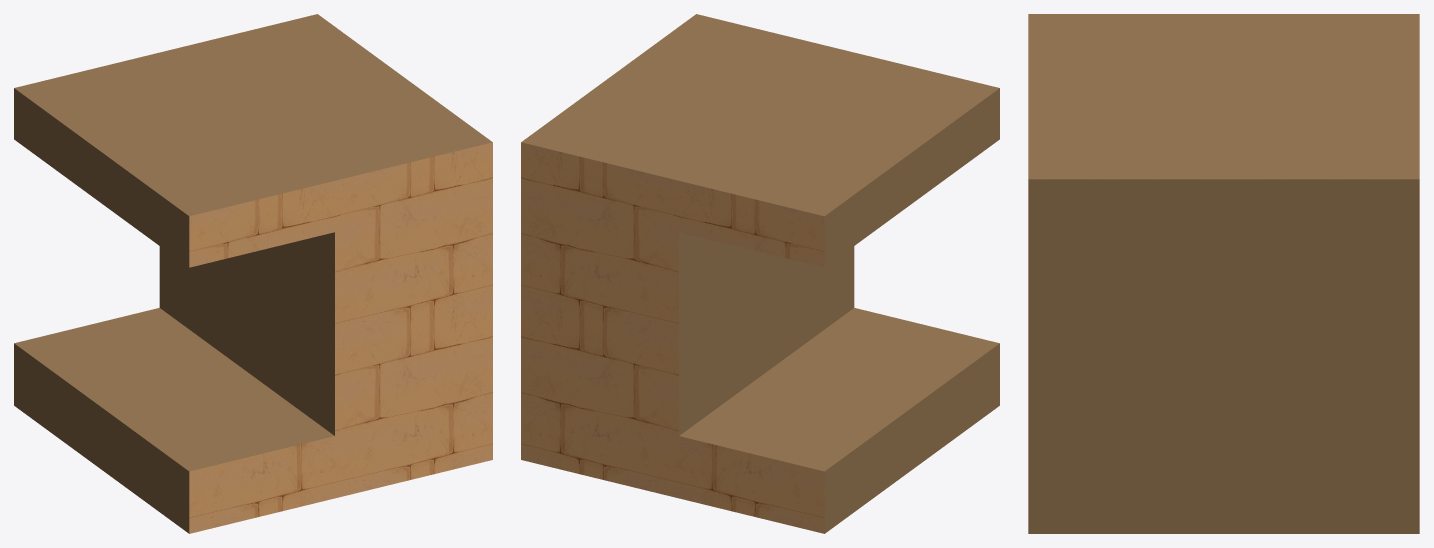
The model's file is Crumbled_Wall_1x1V2.fbx.
3 renders of one model, left to right at view 1: azimuth 30°, elevation 25°; view 2: azimuth 150°, elevation 25°; view 3: azimuth 270°, elevation 25°, orthographic. The views are drawn at different scales.
Parts seen in each view (by area): view 1: Crumbled_Wall_1x1V2; view 2: Crumbled_Wall_1x1V2; view 3: Crumbled_Wall_1x1V2.
Boxes of the visible parts, x1=… form: Crumbled_Wall_1x1V2: x1=14, y1=14, x2=492, y2=533; Crumbled_Wall_1x1V2: x1=521, y1=14, x2=999, y2=533; Crumbled_Wall_1x1V2: x1=1028, y1=14, x2=1419, y2=533.
Bounding box in the file's own units: 100 × 100 × 100.
